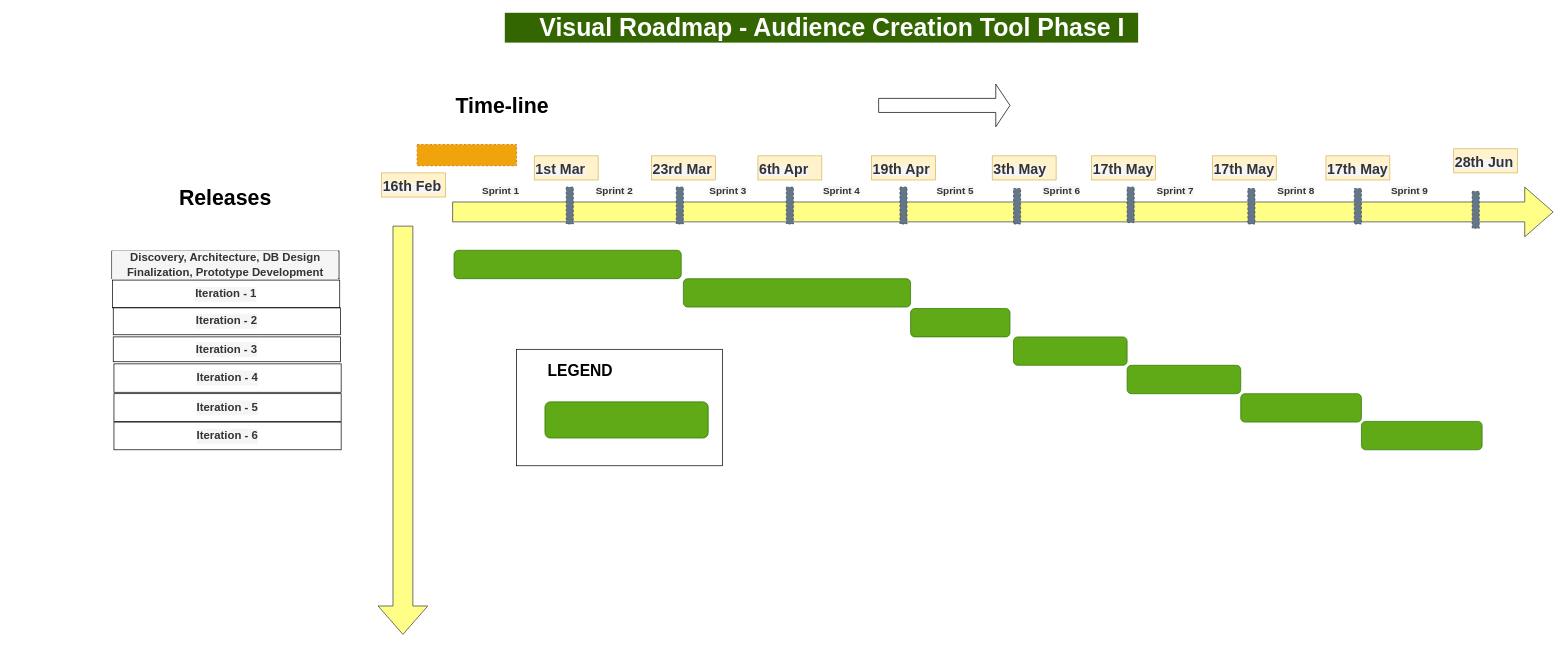
Image size: 1566x647. Some labels were removed from this diagram. Each missing label, with the centre of its shape:
"ACT - Altimetrik Team" goes at point 626,419.
"Kick-Off" goes at point 466,155.
